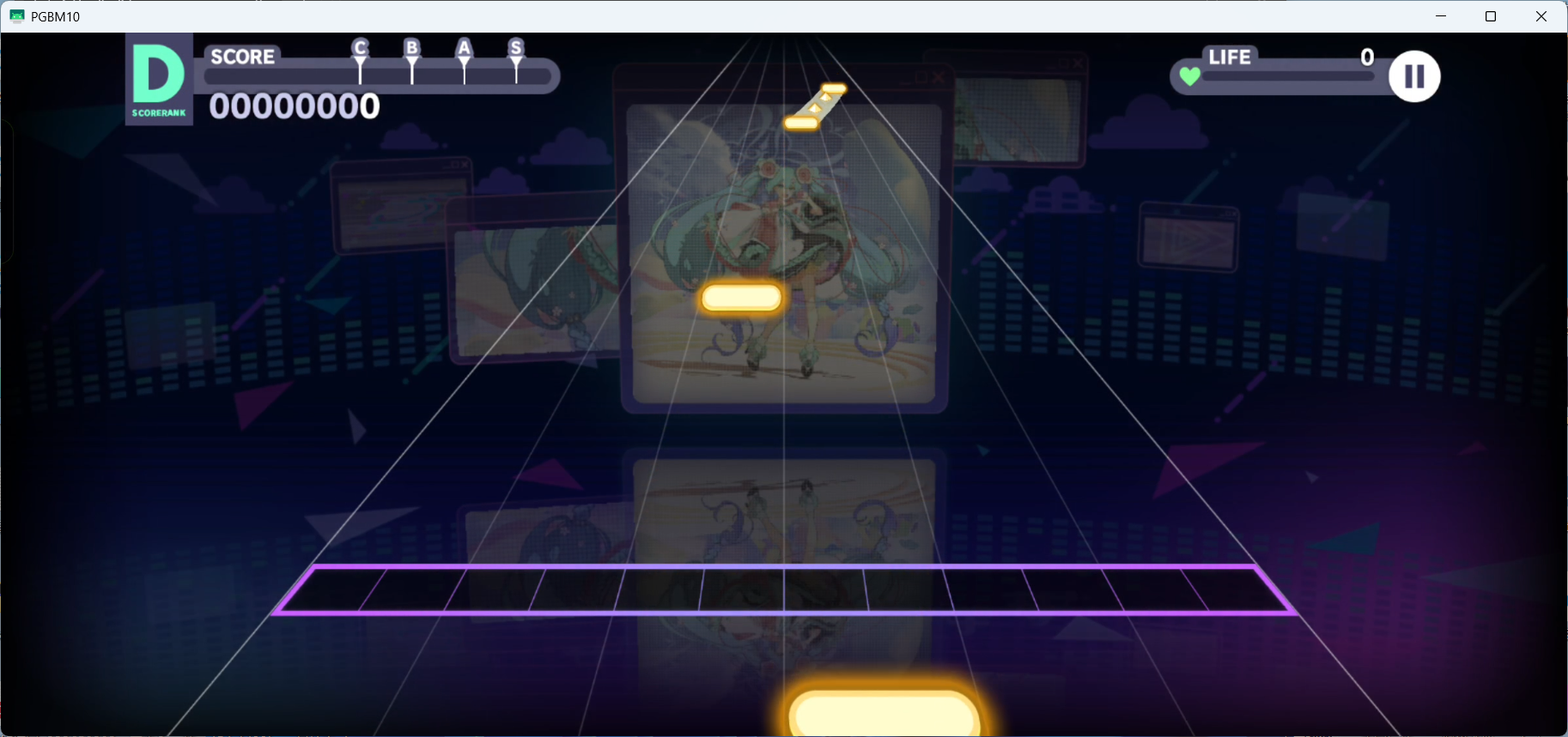hold: (792, 94, 844, 118)
sweep: (807, 104, 822, 117), (818, 93, 831, 106)
tap: (788, 689, 983, 737), (701, 282, 781, 311), (785, 118, 818, 130), (822, 83, 847, 94)
